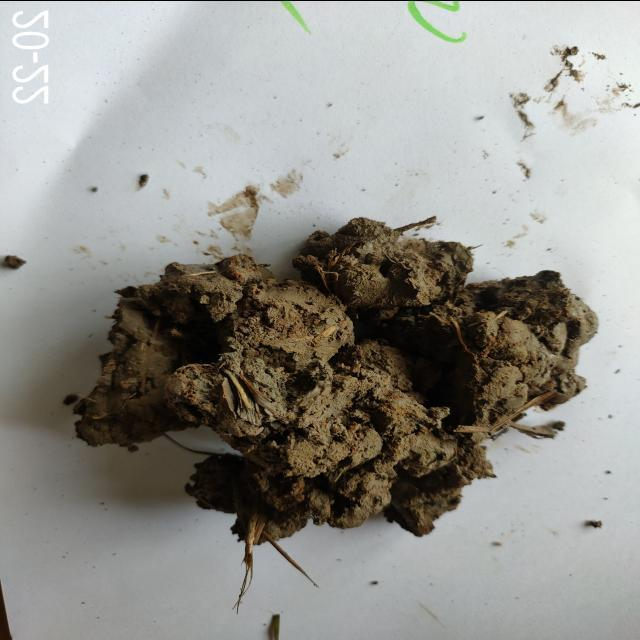soil: (207, 300, 490, 432)
